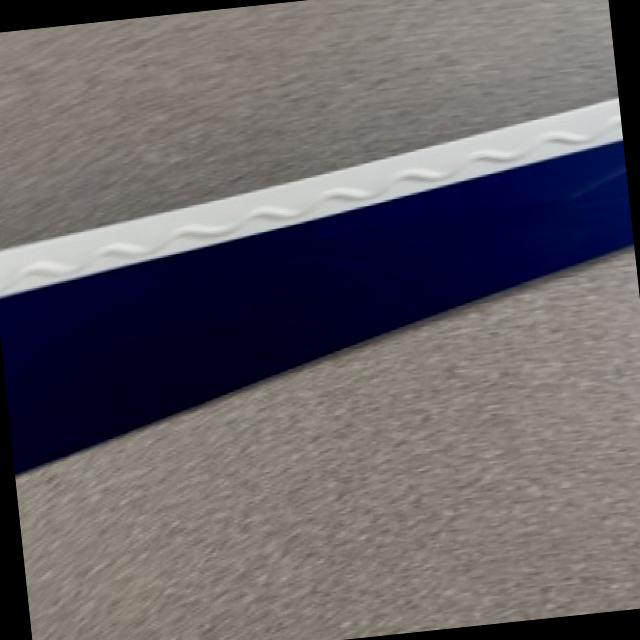healthy: (18, 246, 640, 640), (0, 96, 631, 468)
